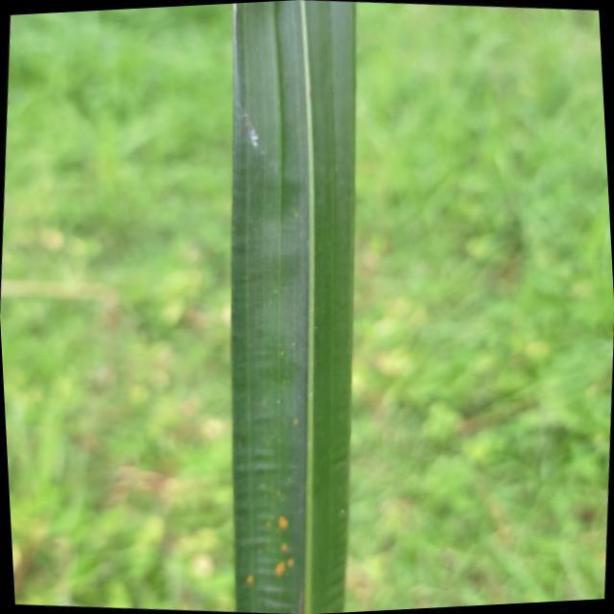Boron: (235, 0, 357, 614)
